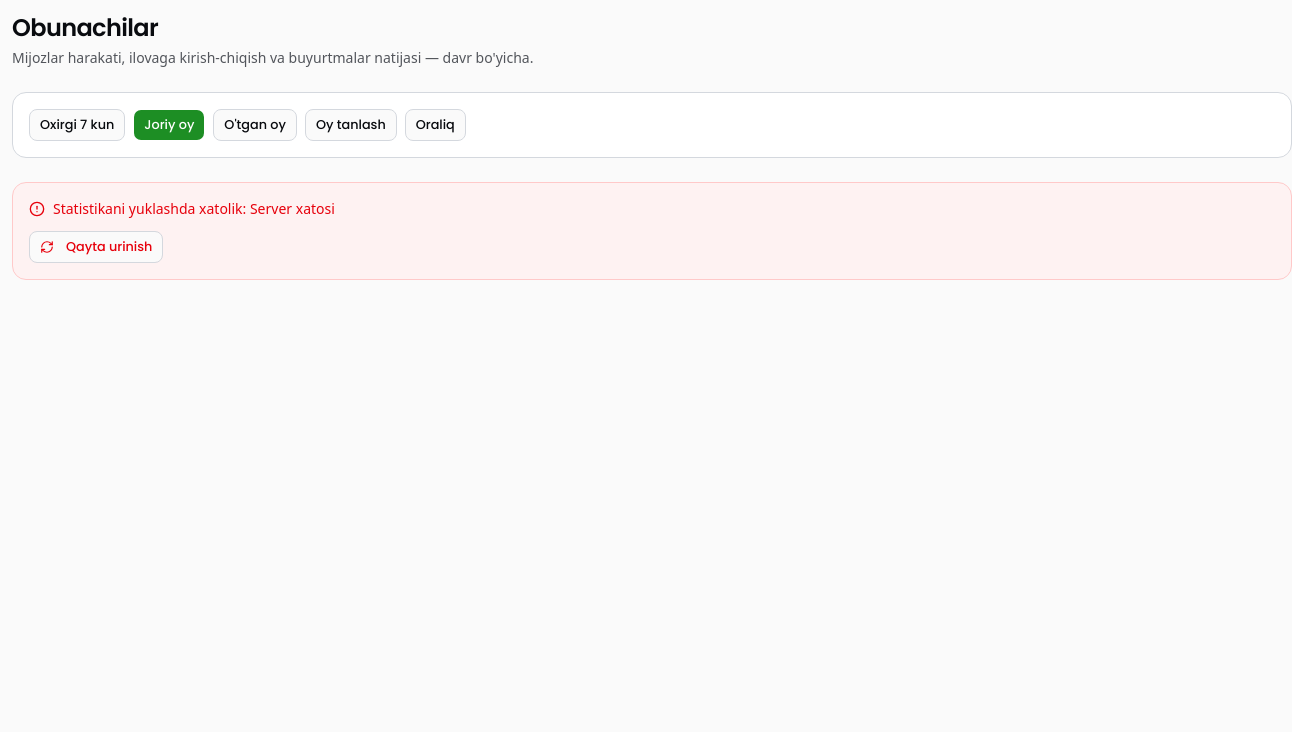
Test case: SubscribersClient › shows the error and recovers on retry
expect the text "Statistikani yuklashda xatolik: Server xatosi" is shown: met, box top-left (29, 199), bottom-right (335, 219)
Click the button "Qayta urinish". click: (96, 247)
box: top-left (29, 231), bottom-right (163, 263)
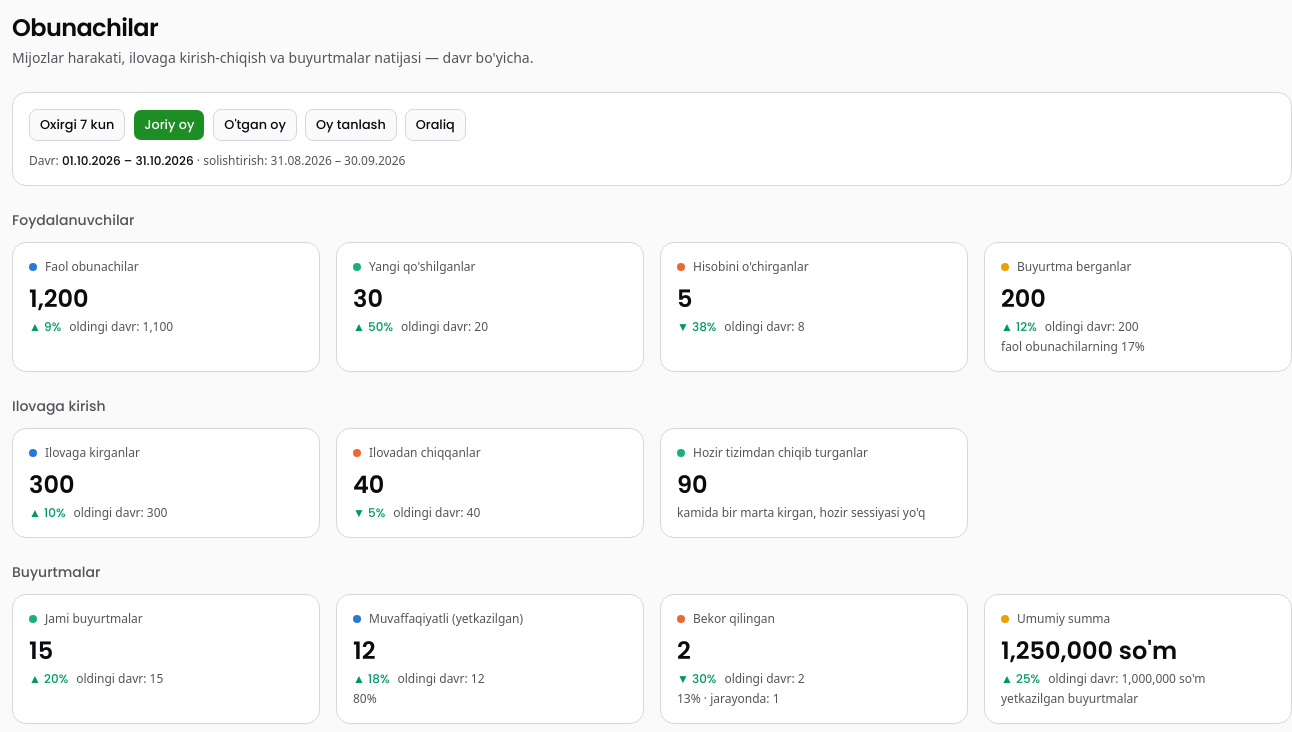
expect the text "Faol obunachilar" is shown: met, box top-left (45, 259), bottom-right (139, 275)
expect the text "Server xatosi" is gone: met
